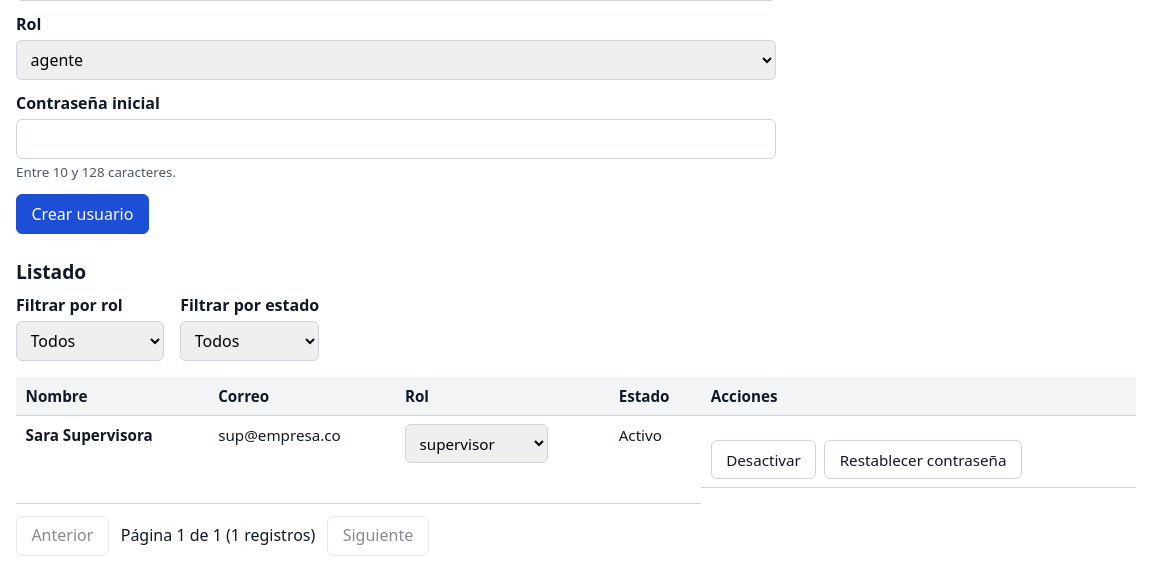
Test: Usuarios (solo administrador) › 409 NO_PUEDE_DESACTIVARSE se muestra y no rompe la tabla
(page scrolled)
Step 1. Click the button "Desactivar" → click(764, 460), box [711,440,816,479]
(page scrolled)
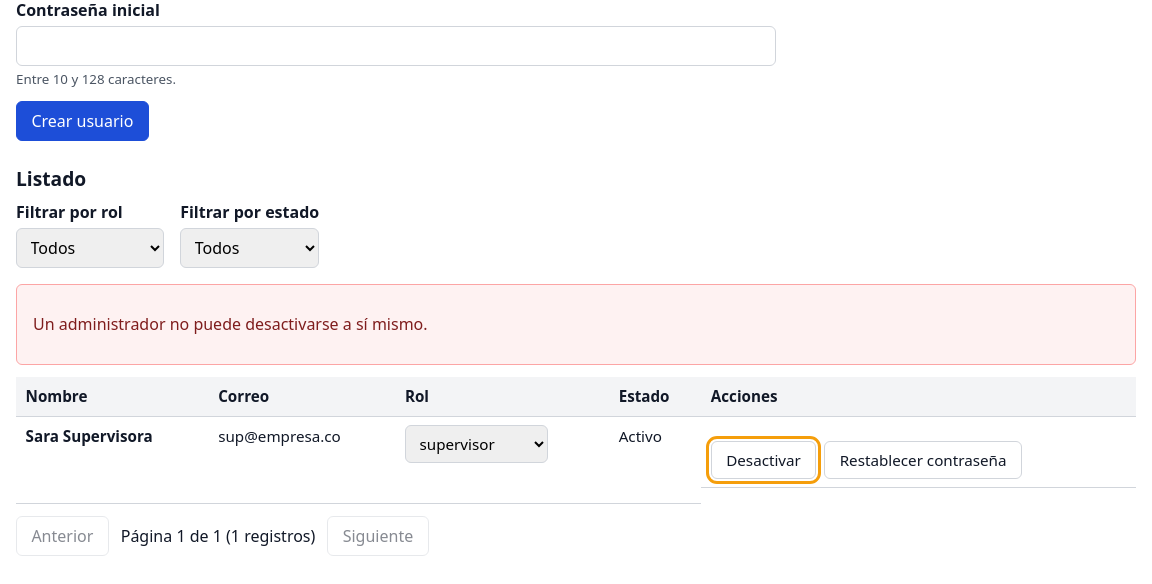
Expected: the column heading "Sara Supervisora" is shown, [16,416,209,504]
Expected: the message shows "no puede desactivarse", [33,313,428,335]
